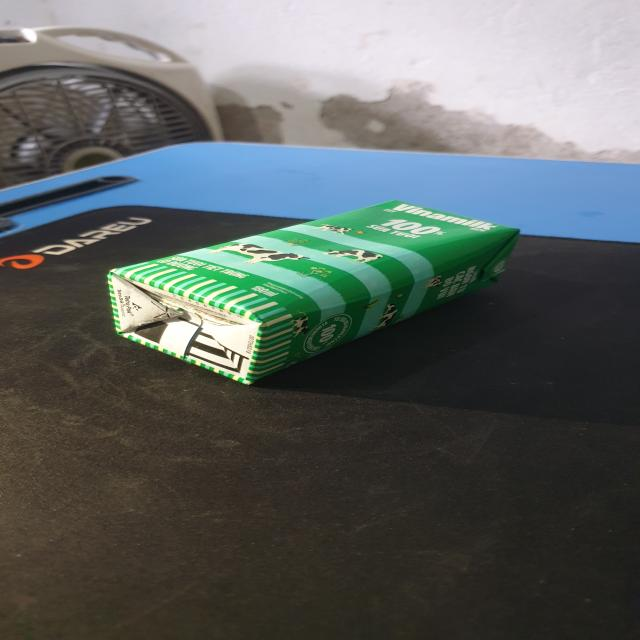Vina: (108, 198, 526, 389)
